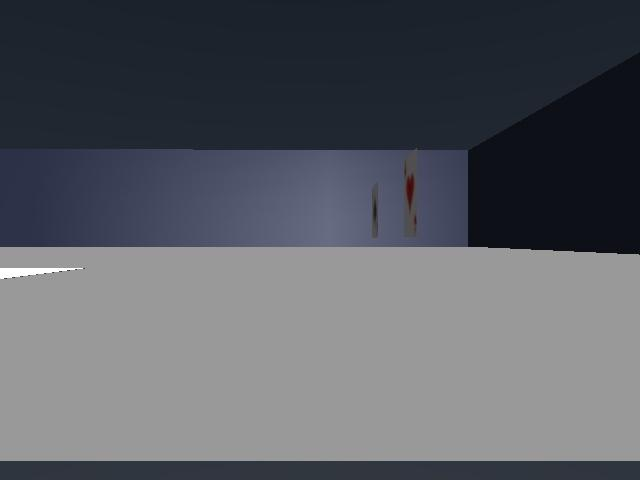club: (372, 183, 378, 238)
heart: (404, 149, 416, 236)
